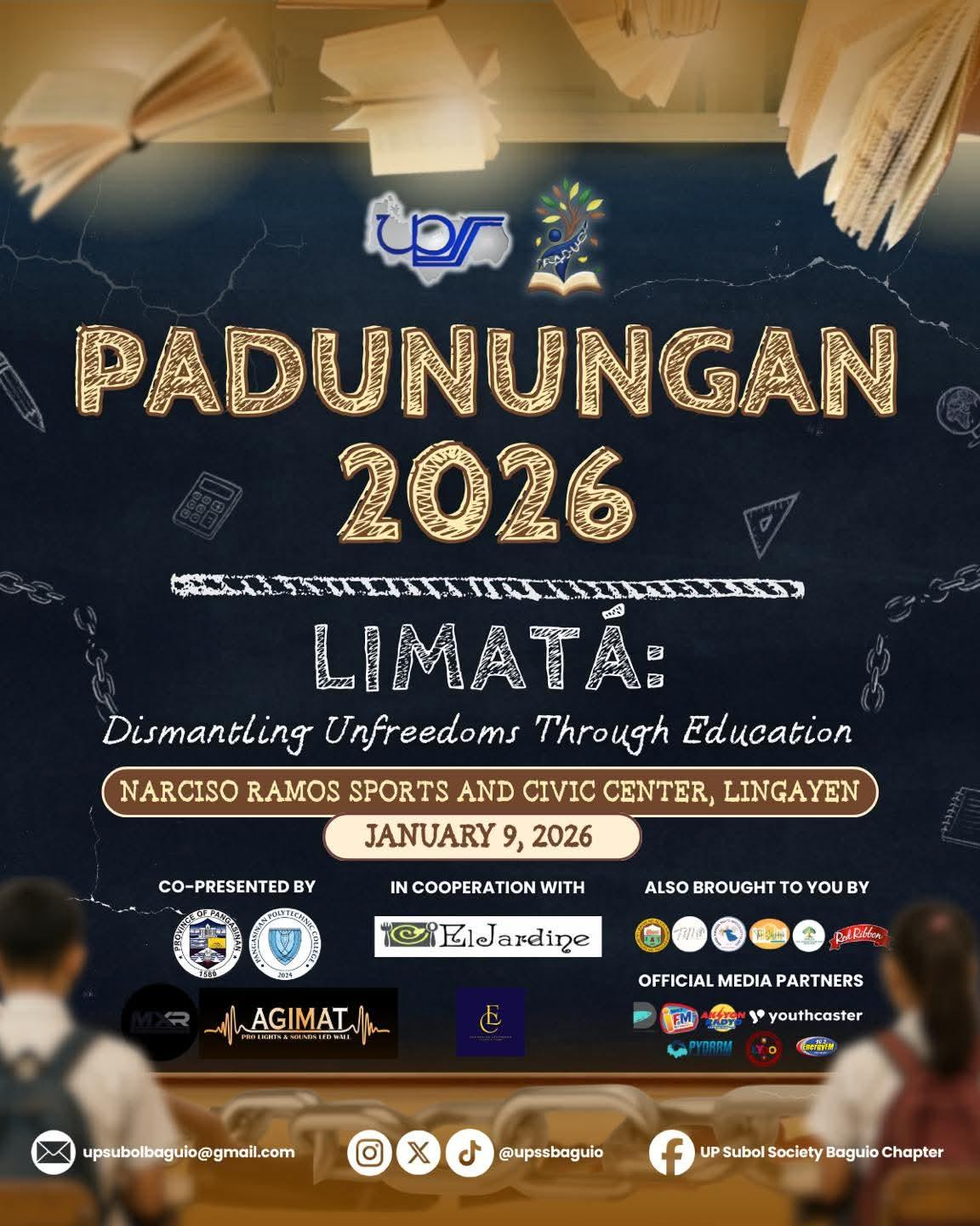embellishment: (0, 3, 285, 239), (764, 0, 979, 262), (307, 9, 521, 182), (164, 564, 814, 608), (533, 1, 740, 126), (345, 1126, 496, 1180), (644, 1123, 700, 1181), (26, 1127, 79, 1178)
logo: (116, 979, 406, 1068), (356, 183, 519, 291), (630, 996, 871, 1069), (166, 902, 330, 983), (368, 908, 607, 963), (628, 914, 894, 960), (523, 180, 610, 302), (450, 980, 531, 1060)
text: (61, 311, 910, 552), (301, 610, 675, 705), (92, 711, 862, 751), (116, 775, 865, 805), (357, 818, 600, 853), (633, 967, 870, 993), (639, 874, 874, 900), (695, 1142, 950, 1164), (82, 1141, 299, 1165), (385, 875, 592, 900), (153, 874, 323, 898), (498, 1142, 610, 1162)
